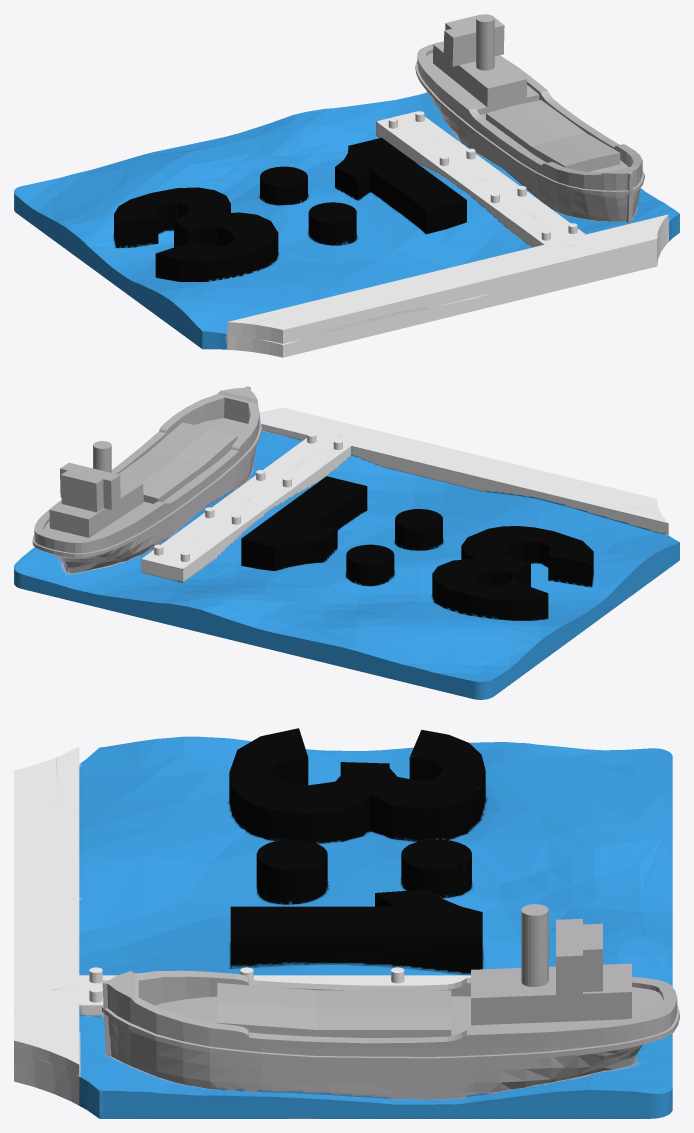
The model's file is GenericPort.fbx.
The picture shows the model from 3 angles, top to bottom: view 1: azimuth 30°, elevation 25°; view 2: azimuth 150°, elevation 25°; view 3: azimuth 270°, elevation 25°; orthographic projection. The views are drawn at different scales.
Visible parts, largest first — view 1: node_id3; view 2: node_id3; view 3: node_id3.
Boxes of the visible parts, bbox=[...] form: node_id3: bbox=[14, 14, 679, 357]; node_id3: bbox=[14, 386, 679, 699]; node_id3: bbox=[14, 728, 679, 1118].
Size of the model in its own units: 0.512 by 0.121 by 0.4181.
Materials: 1 (1 with a texture image).
